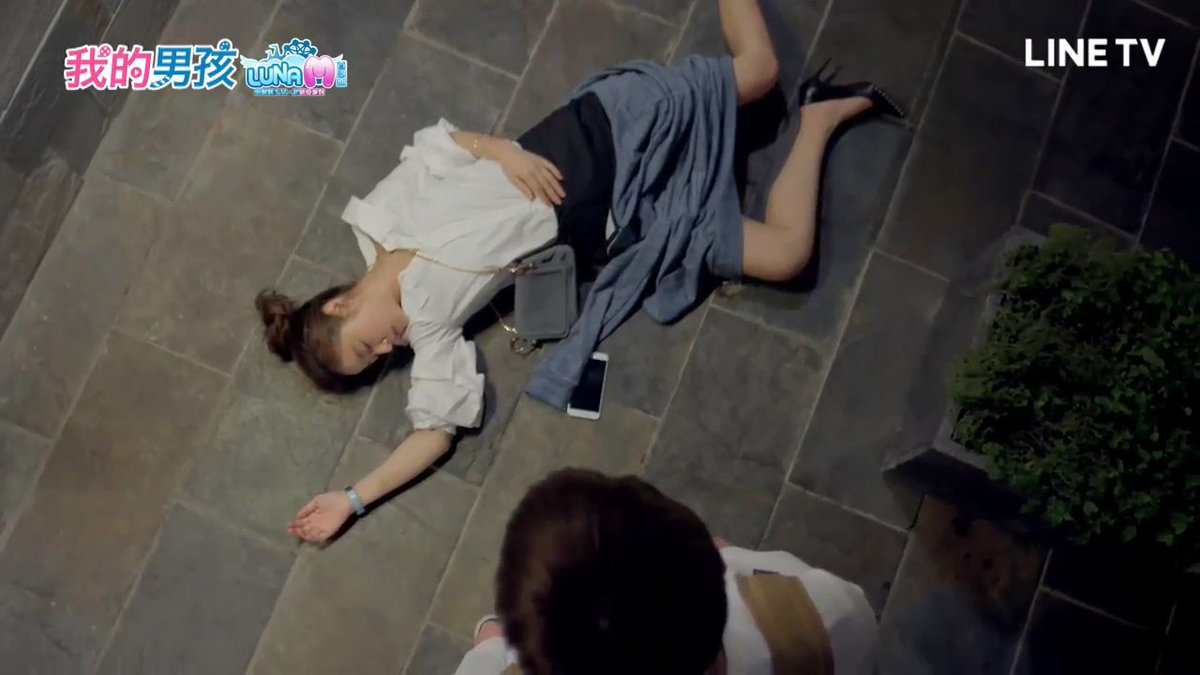collapsed: (247, 85, 1024, 530)
